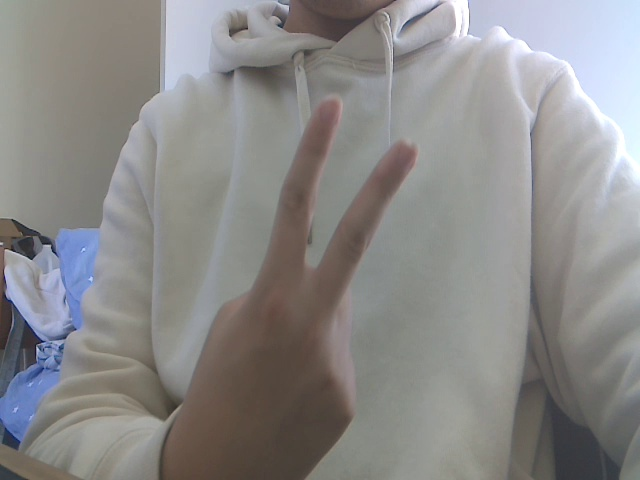hand_gesture_2: (167, 84, 432, 480)
